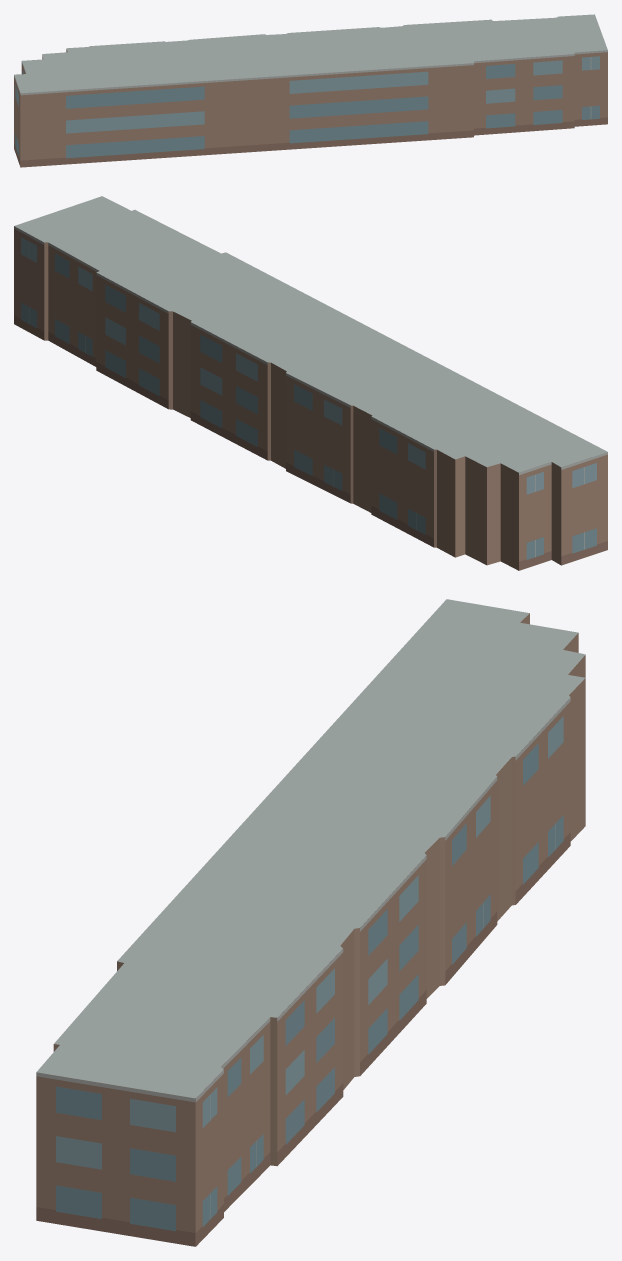
The model's file is survey-upis-32518878.glb.
3 renders of one model, top to bottom at view 1: azimuth 30°, elevation 25°; view 2: azimuth 150°, elevation 25°; view 3: azimuth 270°, elevation 25°, orthographic. The views are drawn at different scales.
Visible parts, largest first — view 1: survey-upis-32518878.tmp; view 2: survey-upis-32518878.tmp; view 3: survey-upis-32518878.tmp.
Boxes of the visible parts, bbox=[...] form: survey-upis-32518878.tmp: bbox=[14, 14, 607, 167]; survey-upis-32518878.tmp: bbox=[14, 196, 607, 570]; survey-upis-32518878.tmp: bbox=[36, 599, 585, 1246].
Size of the model in its own units: 66.06 by 9.15 by 30.72.
